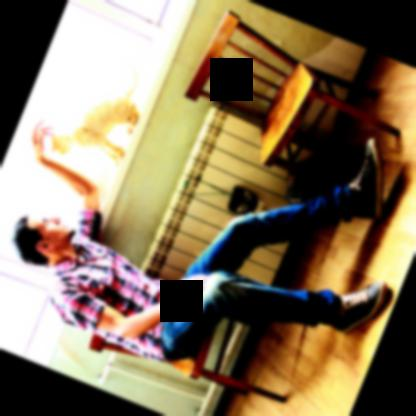backpack: (284, 140, 365, 205)
